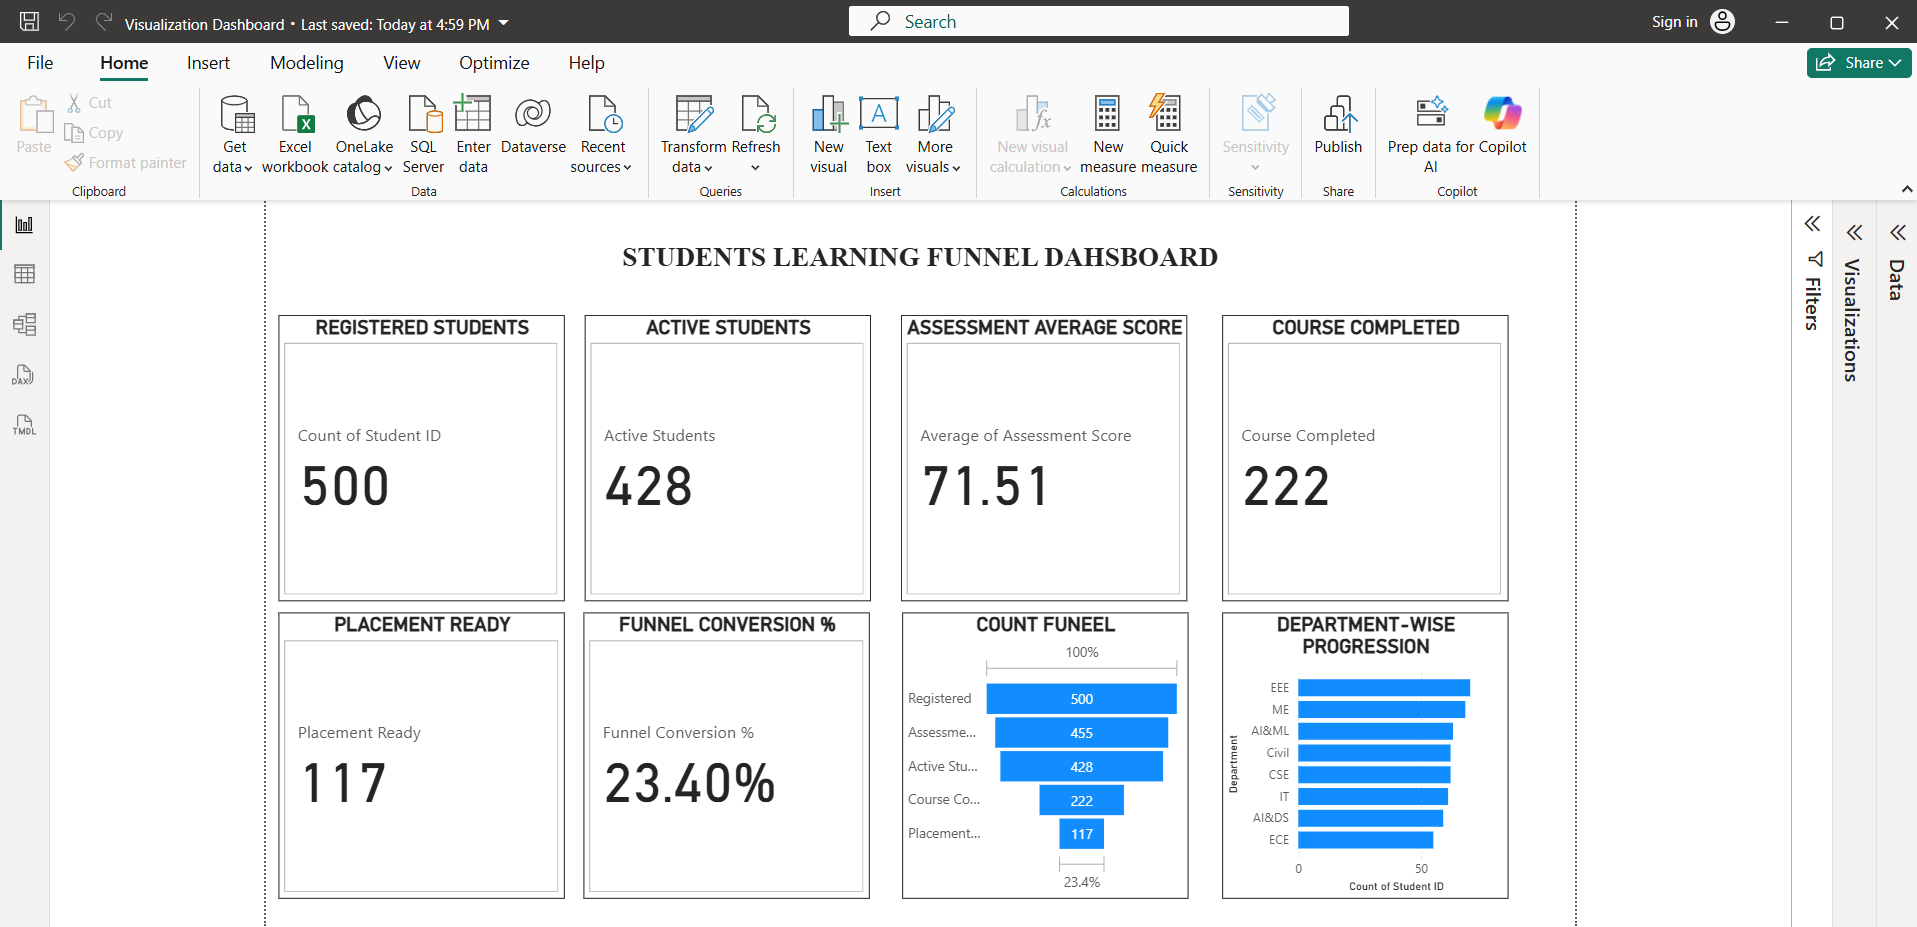

This screenshot's page, from the dashboard's own definition file:
{"tool":"powerbi","page":{"name":"Student Learning Funnel Dashboard 1","canvas":[1280,720],"ordinal":0},"visuals":[{"type":"cardVisual","title":"REGISTERED STUDENTS","fields":{"Data":["CountNonNull(Students_data.Student ID)"]},"box":[12.3,112.5,279.9,279.9],"z":0},{"type":"cardVisual","title":"ACTIVE STUDENTS","fields":{"Data":["Student dataset1.Active Students"]},"box":[311.5,112.5,279.9,279.9],"z":1000},{"type":"cardVisual","title":"ASSESSMENT AVERAGE SCORE","fields":{"Data":["Avg(Students_data.Assessment Score)"]},"box":[621.6,112.5,279.9,279.9],"z":2000},{"type":"cardVisual","title":"COURSE COMPLETED","fields":{"Data":["Students_data.Course Completed"]},"box":[935.9,112.5,279.9,279.9],"z":3000},{"type":"cardVisual","title":"PLACEMENT READY","fields":{"Data":["Students_data.Placement Ready"]},"box":[12,403,280,280],"z":4000},{"type":"cardVisual","title":"FUNNEL CONVERSION %","fields":{"Data":["Students_data.Funnel Conversion %"]},"box":[311,403,280,280],"z":5000},{"type":"clusteredBarChart","title":"DEPARTMENT-WISE PROGRESSION","fields":{"Category":["Students_data.Department"],"Y":["CountNonNull(Students_data.Student ID)"]},"box":[936,403,280,280],"z":6000},{"type":"textbox","box":[0,35.7,1280.3,59],"z":7000},{"type":"funnel","title":"COUNT FUNEEL","fields":{"Category":["Table (2).Stage"],"Y":["Sum(Table (2).Count)"]},"box":[622,403,280,280],"z":8000}]}

Visuals, with their boxes on the page's 1280x720 design canvas (x1, y1, x2, y2). These are canvas units, not pixel positions in the 1917x927 screenshot, which may show the page scaled, cropped or inside an application window:
"REGISTERED STUDENTS" cardVisual: box=[12, 112, 292, 392]
"ACTIVE STUDENTS" cardVisual: box=[312, 112, 591, 392]
"ASSESSMENT AVERAGE SCORE" cardVisual: box=[622, 112, 902, 392]
"COURSE COMPLETED" cardVisual: box=[936, 112, 1216, 392]
"PLACEMENT READY" cardVisual: box=[12, 403, 292, 683]
"FUNNEL CONVERSION %" cardVisual: box=[311, 403, 591, 683]
"DEPARTMENT-WISE PROGRESSION" clusteredBarChart: box=[936, 403, 1216, 683]
textbox: box=[0, 36, 1280, 95]
"COUNT FUNEEL" funnel: box=[622, 403, 902, 683]
